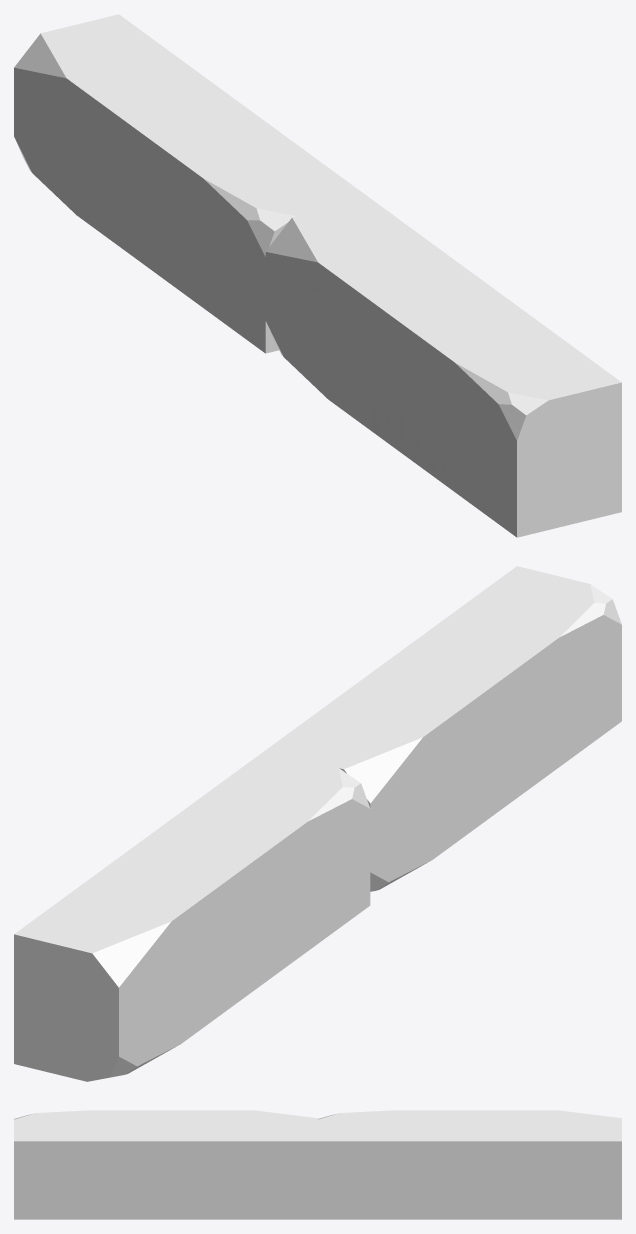
Rendered from StoneWallShort.fbx.
The picture shows the model from 3 angles, top to bottom: view 1: azimuth 30°, elevation 25°; view 2: azimuth 150°, elevation 25°; view 3: azimuth 270°, elevation 25°; orthographic projection. The views are drawn at different scales.
Parts seen in each view (by area): view 1: RockR.001; view 2: RockR.001; view 3: RockR.001.
Boxes of the visible parts, x1,y1,x2,y2 form: RockR.001: (14,14,621,537); RockR.001: (14,566,621,1081); RockR.001: (14,1110,621,1219).
Bounding box in the file's own units: 164 × 193 × 1359.
